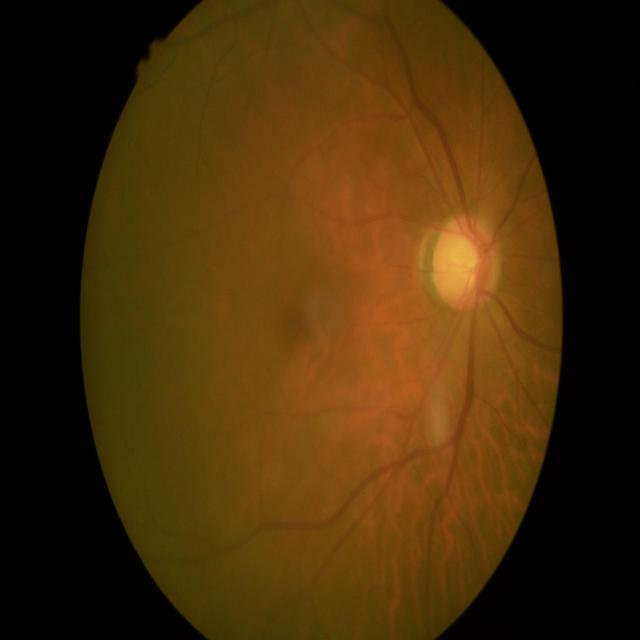cup: (446, 233, 484, 300)
disk: (434, 217, 496, 309)
